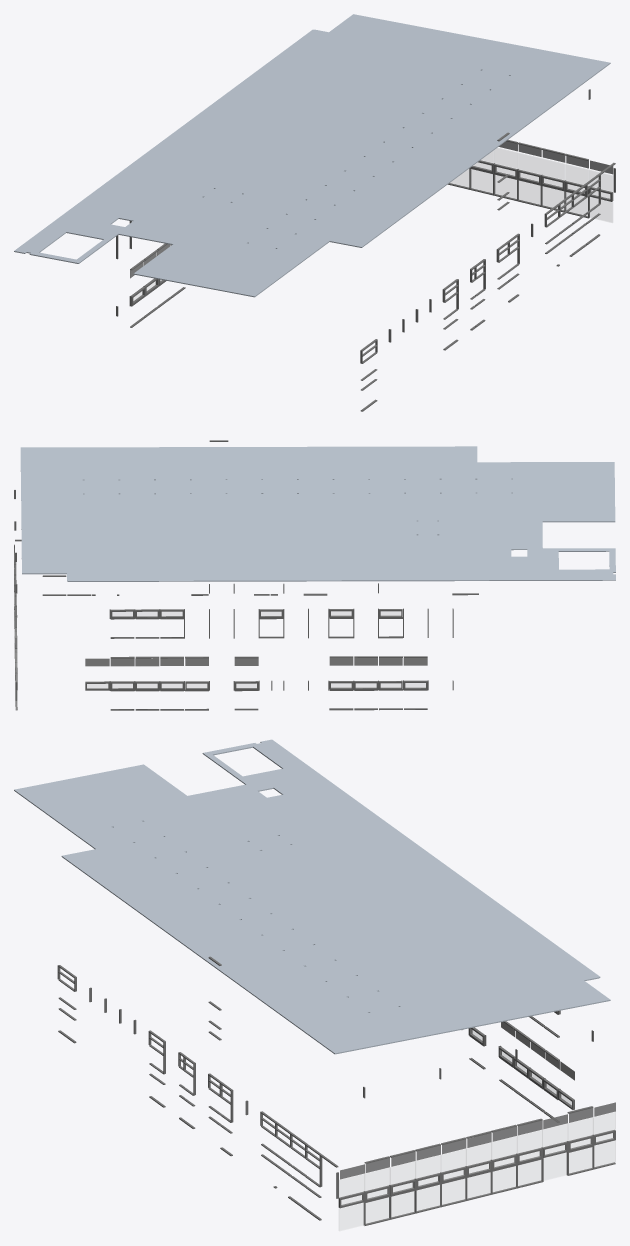
The model's file is pt-111-puesto-mando-hq-p02-v00.glb.
3 views of the same model, one above another, from view 1: azimuth 30°, elevation 25°; view 2: azimuth 150°, elevation 25°; view 3: azimuth 270°, elevation 25° (orthographic). The views are drawn at different scales.
Parts seen in each view (by area): view 1: 0tHMzEBvzFERn5P2ex5wZL; view 2: 0tHMzEBvzFERn5P2ex5wZL; view 3: 0tHMzEBvzFERn5P2ex5wZL.
Part boxes in pixels (box(x1,y1,x2,y2)): 0tHMzEBvzFERn5P2ex5wZL: box(14, 14, 610, 297); 0tHMzEBvzFERn5P2ex5wZL: box(20, 446, 615, 581); 0tHMzEBvzFERn5P2ex5wZL: box(14, 739, 610, 1054).
Bounding box in the file's own units: 33.45 × 8.6 × 25.59.
